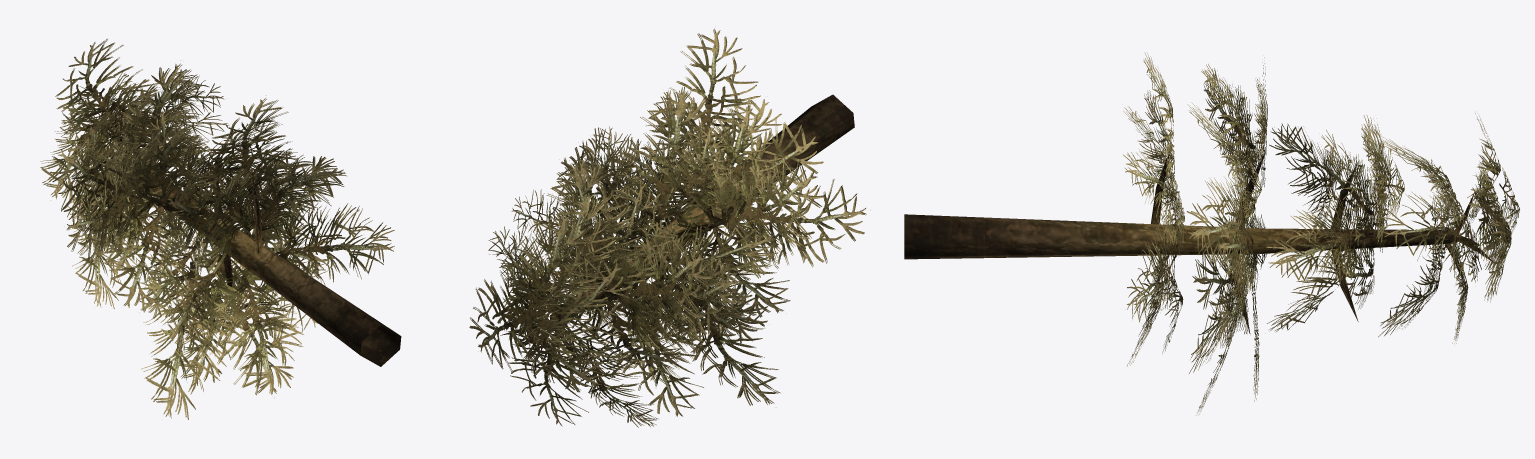
File: cedar_atlas_dead_1.glb
3 renders of one model, left to right at view 1: azimuth 30°, elevation 25°; view 2: azimuth 150°, elevation 25°; view 3: azimuth 270°, elevation 25°, orthographic. The views are drawn at different scales.
Size of the model in its own units: 22.67 by 23.59 by 34.78.
1 material, 1 textured.
